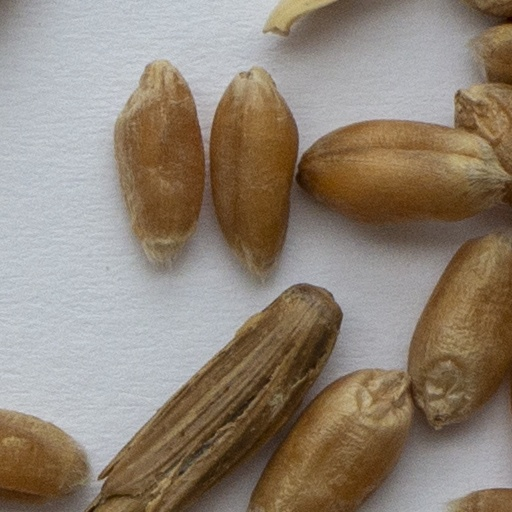Peel-poly: (88, 286, 342, 511), (266, 0, 342, 37)
